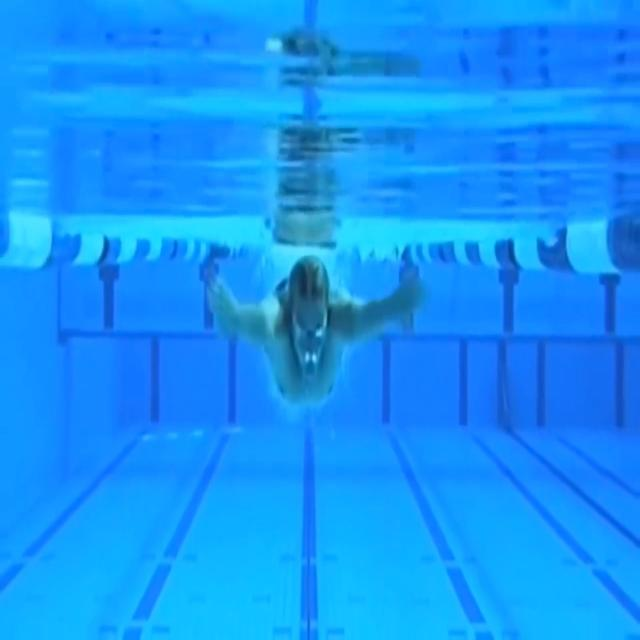Swimming: (206, 252, 420, 407)
